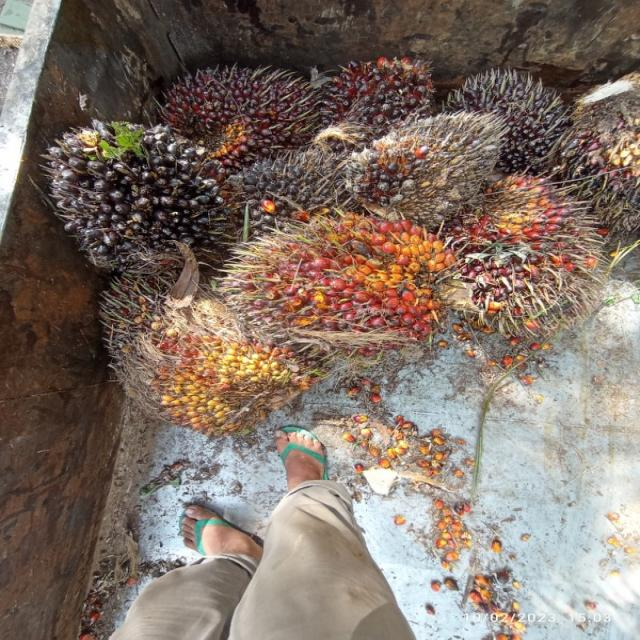fraksi 00: (25, 97, 307, 300), (82, 272, 302, 452), (204, 135, 362, 248), (455, 70, 594, 198)
fraksi 1: (150, 25, 328, 166), (313, 39, 462, 145)
fraksi 3: (196, 182, 494, 378), (428, 160, 614, 331)
